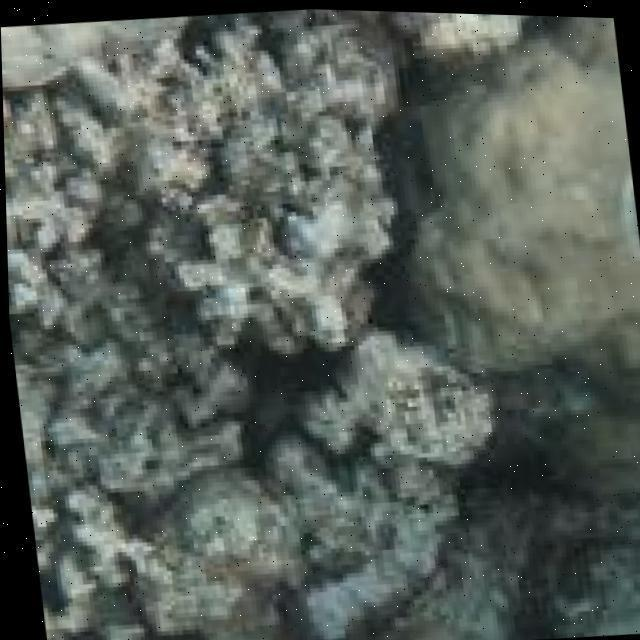Dead Coral: (13, 19, 450, 628)
